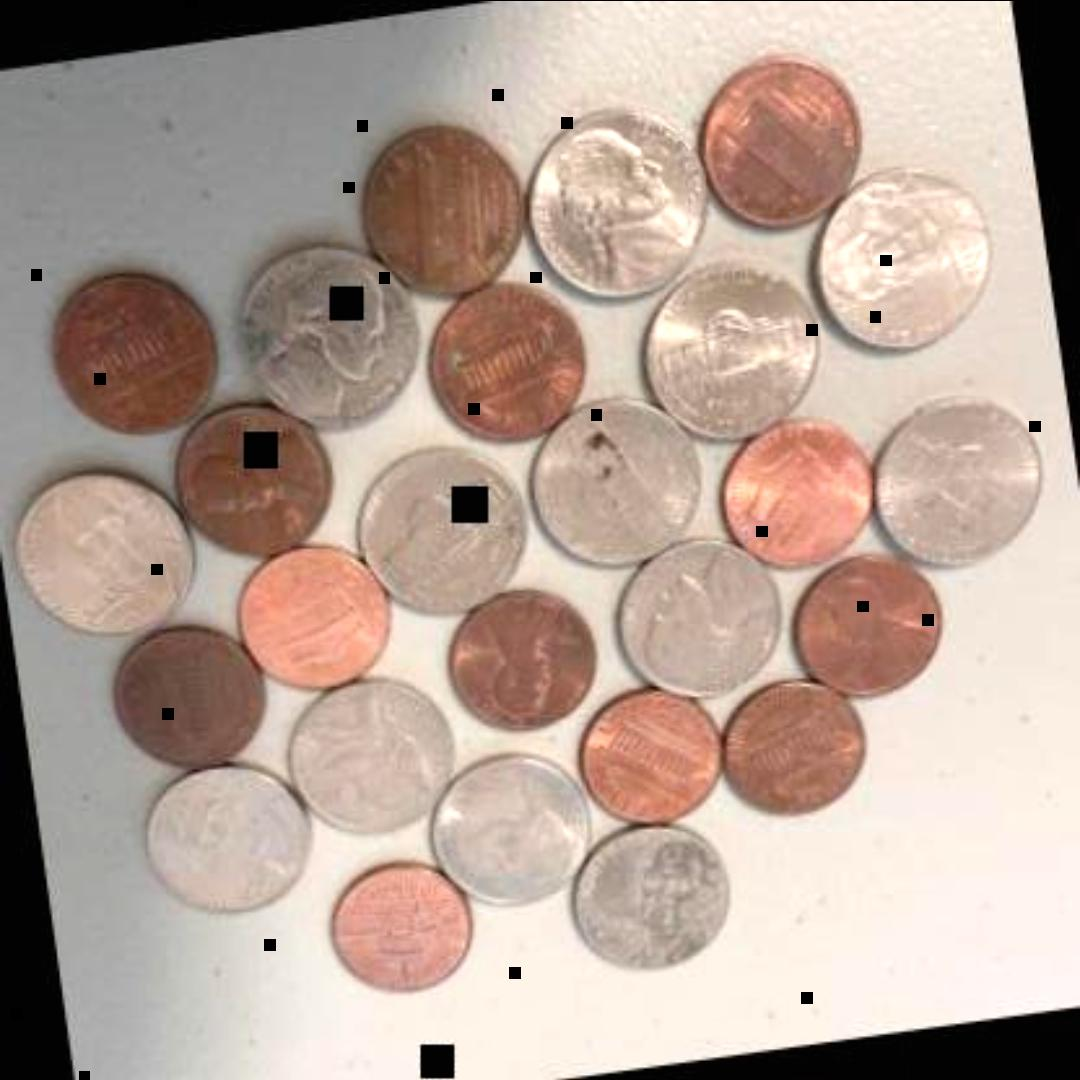Nickel: (512, 104, 714, 316), (799, 162, 1001, 368), (630, 250, 822, 455), (513, 384, 707, 580), (859, 387, 1051, 581), (235, 241, 423, 432), (346, 436, 534, 625), (272, 666, 461, 844), (601, 530, 785, 708), (134, 756, 320, 929), (12, 462, 196, 636), (414, 748, 598, 922), (558, 821, 738, 989)
Penny: (675, 48, 867, 242), (36, 264, 218, 448), (352, 120, 526, 310), (160, 390, 344, 568), (414, 283, 594, 459), (774, 540, 948, 714), (96, 614, 272, 782), (432, 578, 603, 744), (708, 414, 876, 582), (703, 668, 874, 832), (226, 542, 397, 704), (562, 677, 726, 837), (313, 854, 479, 1010)
